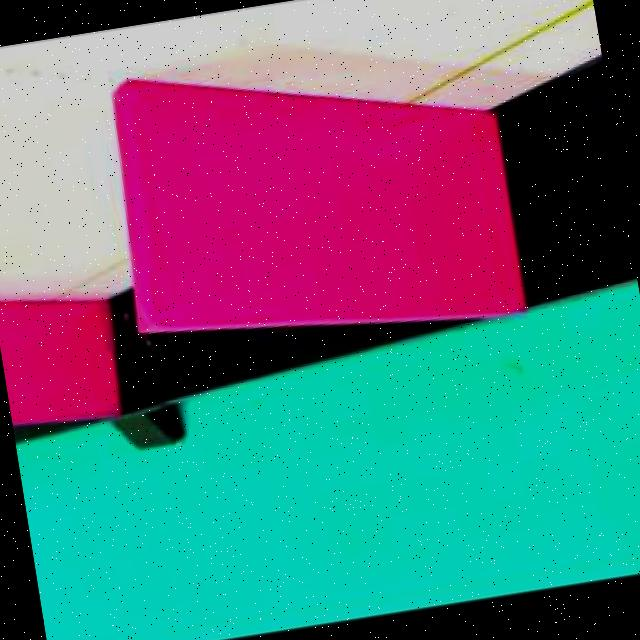xparking: (118, 43, 504, 314), (0, 299, 108, 415)
